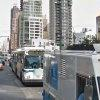buses: (40, 48, 100, 100), (11, 46, 46, 86)
